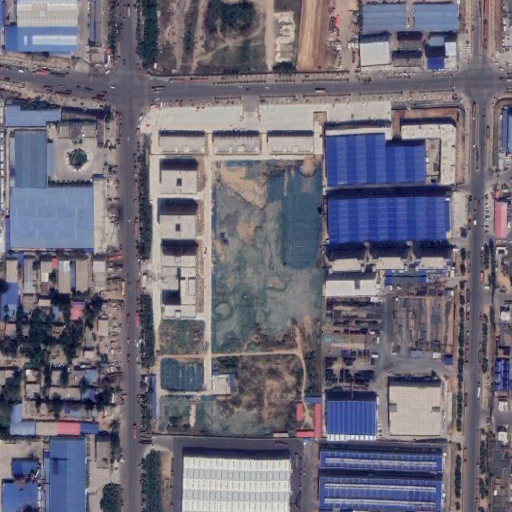cw: (205, 151, 328, 364), (161, 396, 296, 436)
